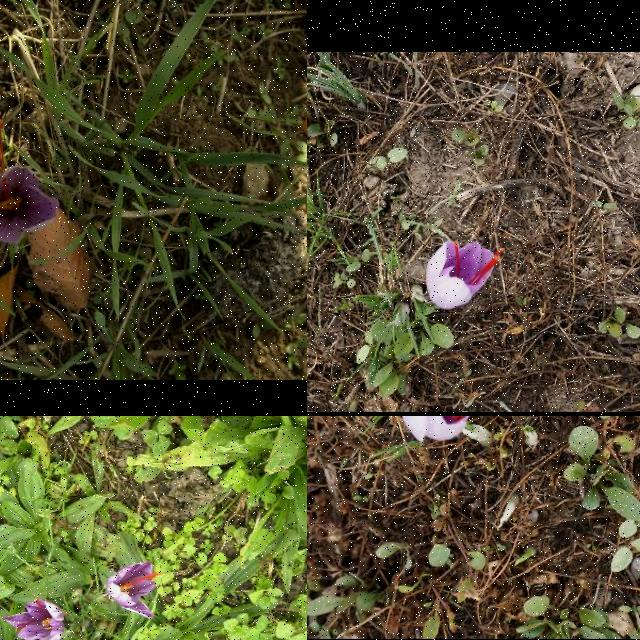flower: (0, 119, 58, 247), (426, 238, 504, 310), (104, 562, 160, 618), (4, 599, 69, 640), (402, 416, 476, 444)
